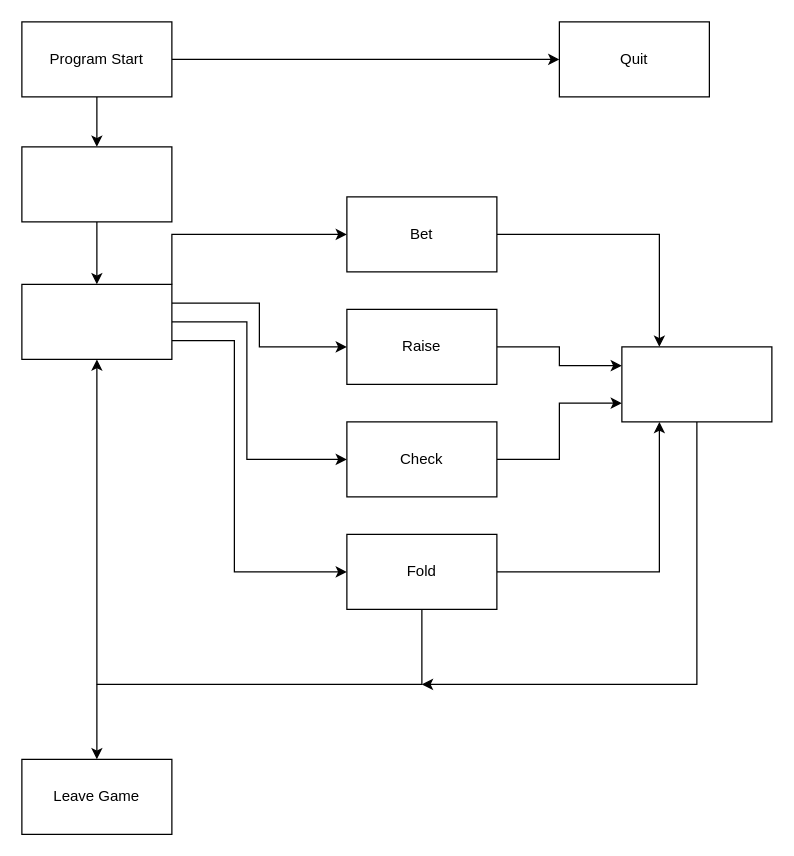
Some shapes in this 794 by 856 pixel diagram are drawn without their labels. Here are the shapes that lost their labels. From the top down, the centre of each, then its label:
pixel 96 184: Play
pixel 96 321: Given Decision
pixel 696 384: Community Cards Dealt
